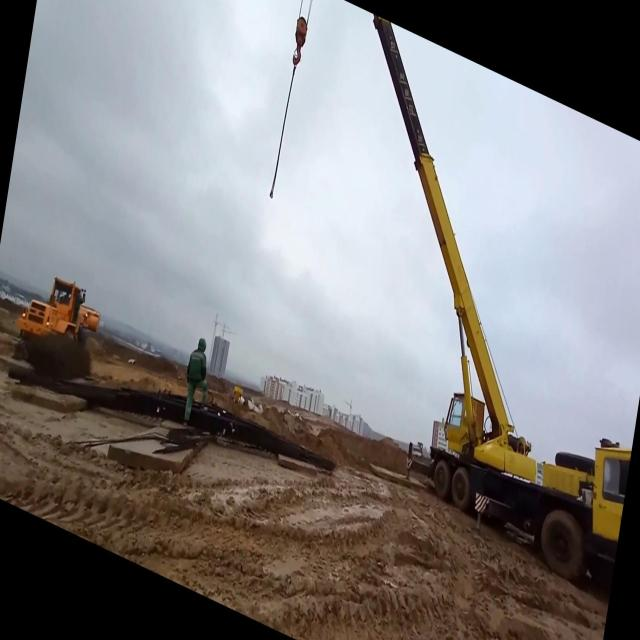crane: (305, 13, 640, 600)
